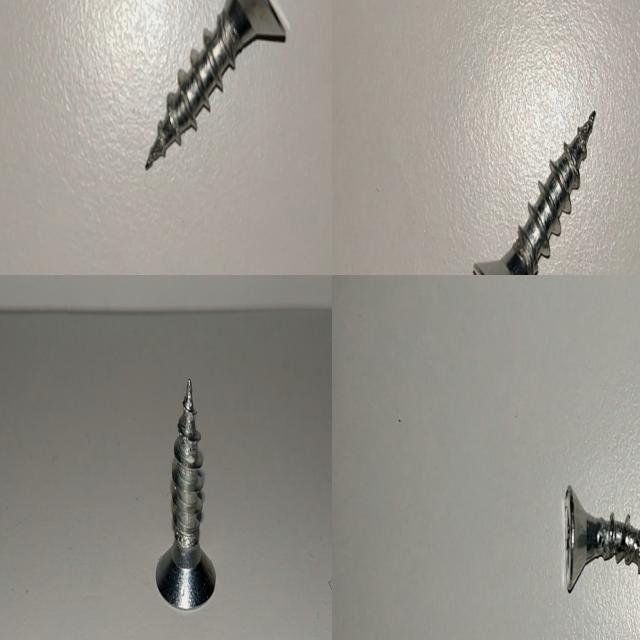Screw: (145, 0, 290, 169), (473, 110, 596, 275), (156, 377, 216, 609), (564, 485, 640, 592)
